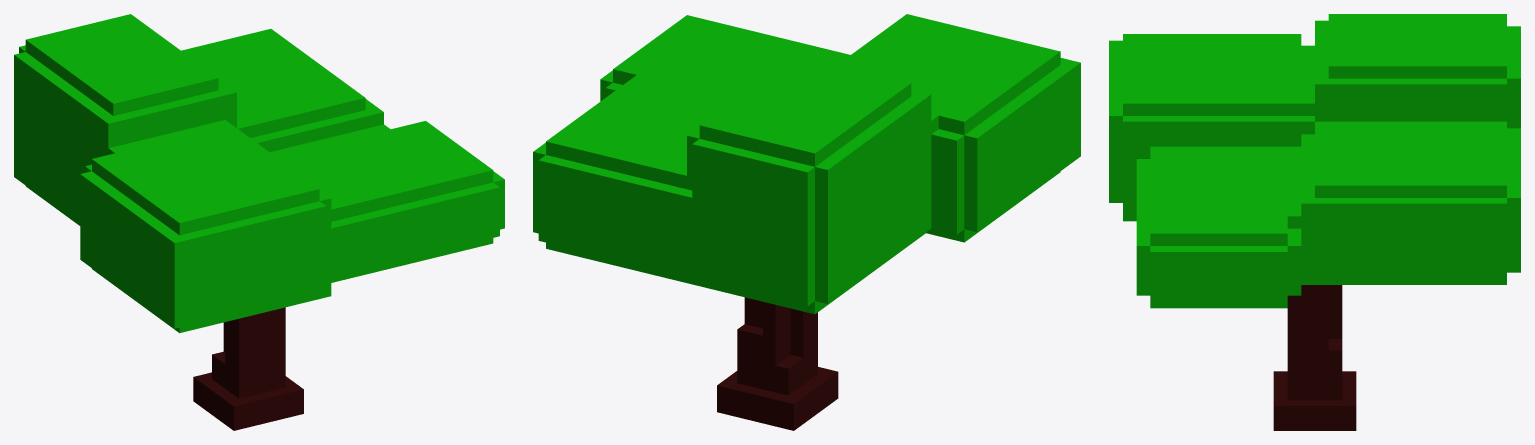
The model's file is Tree_1_2.fbx.
3 renders of one model, left to right at view 1: azimuth 30°, elevation 25°; view 2: azimuth 150°, elevation 25°; view 3: azimuth 270°, elevation 25°, orthographic. The views are drawn at different scales.
Visible parts, largest first — view 1: Tree_1_2; view 2: Tree_1_2; view 3: Tree_1_2.
Boxes of the visible parts, bbox=[...] form: Tree_1_2: bbox=[14, 14, 504, 430]; Tree_1_2: bbox=[533, 14, 1080, 430]; Tree_1_2: bbox=[1109, 14, 1520, 430].
Bounding box in the file's own units: 3000 × 2700 × 3000.
